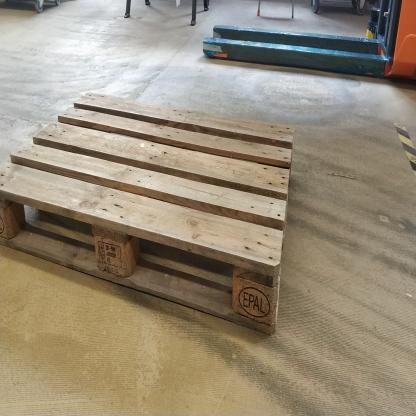BoxFace: (0, 85, 299, 345)
